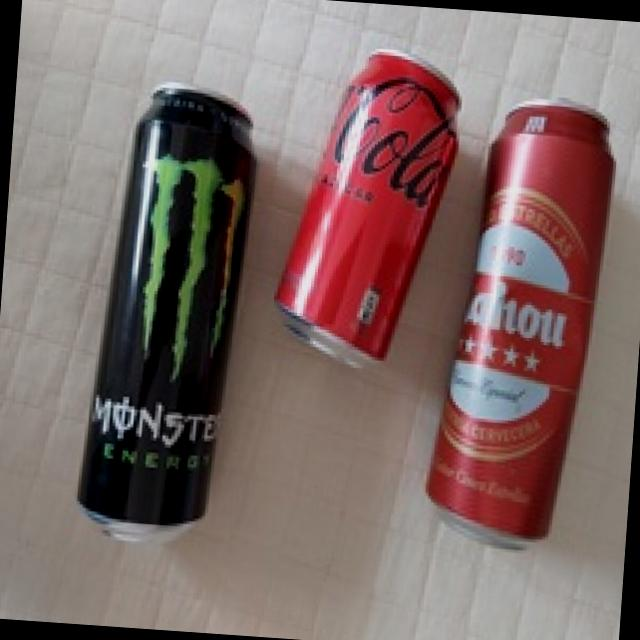can: (421, 90, 618, 558), (72, 78, 264, 548), (268, 41, 467, 378)
